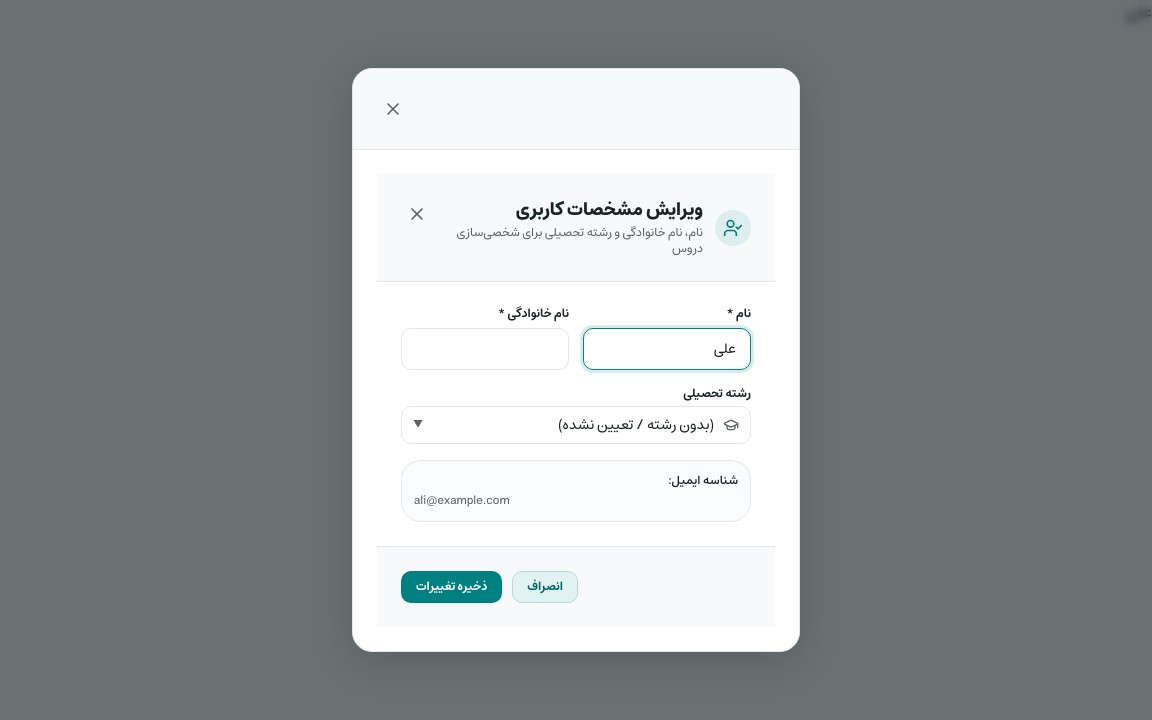
Test: EditProfileModal & Profile Update › shows validation error if first name or last name is too short
Expected: the field showing "علی" is shown, x1=583 y1=328 x2=751 y2=370
Click the button "ذخیره تغییرات". click: [452, 587]
box: x1=401 y1=571 x2=502 y2=603
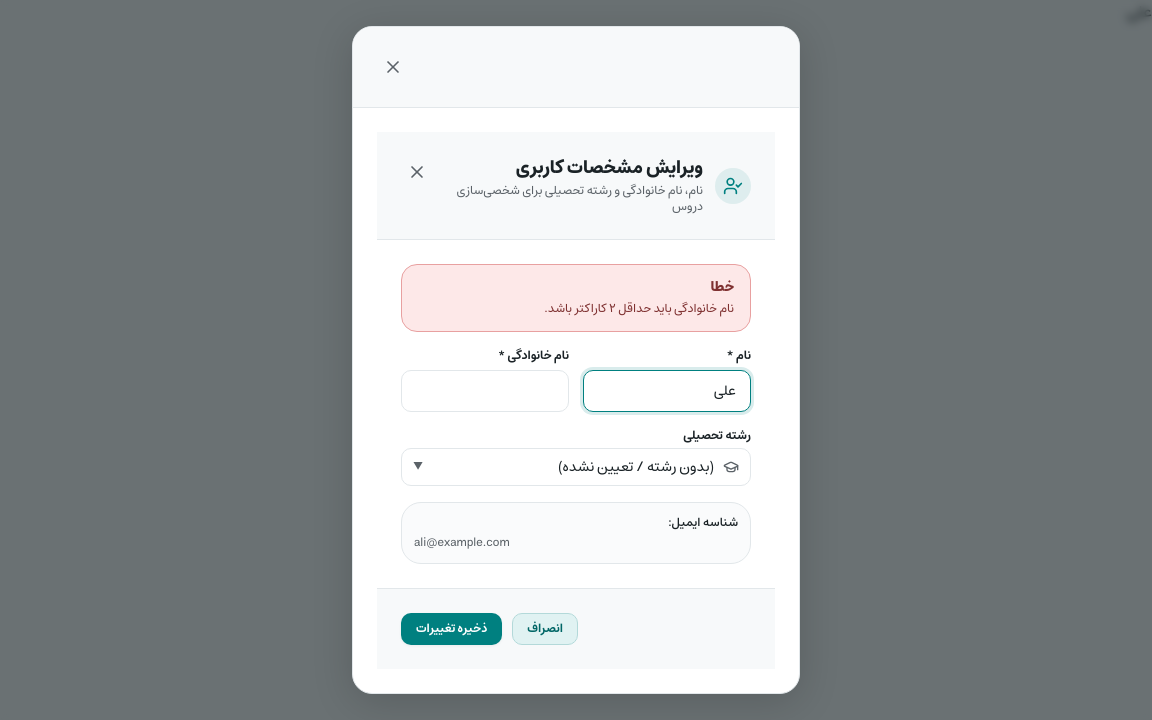
Result: the text "نام خانوادگی باید حداقل ۲ کاراکتر باشد." is shown at x1=544 y1=299 x2=734 y2=319
